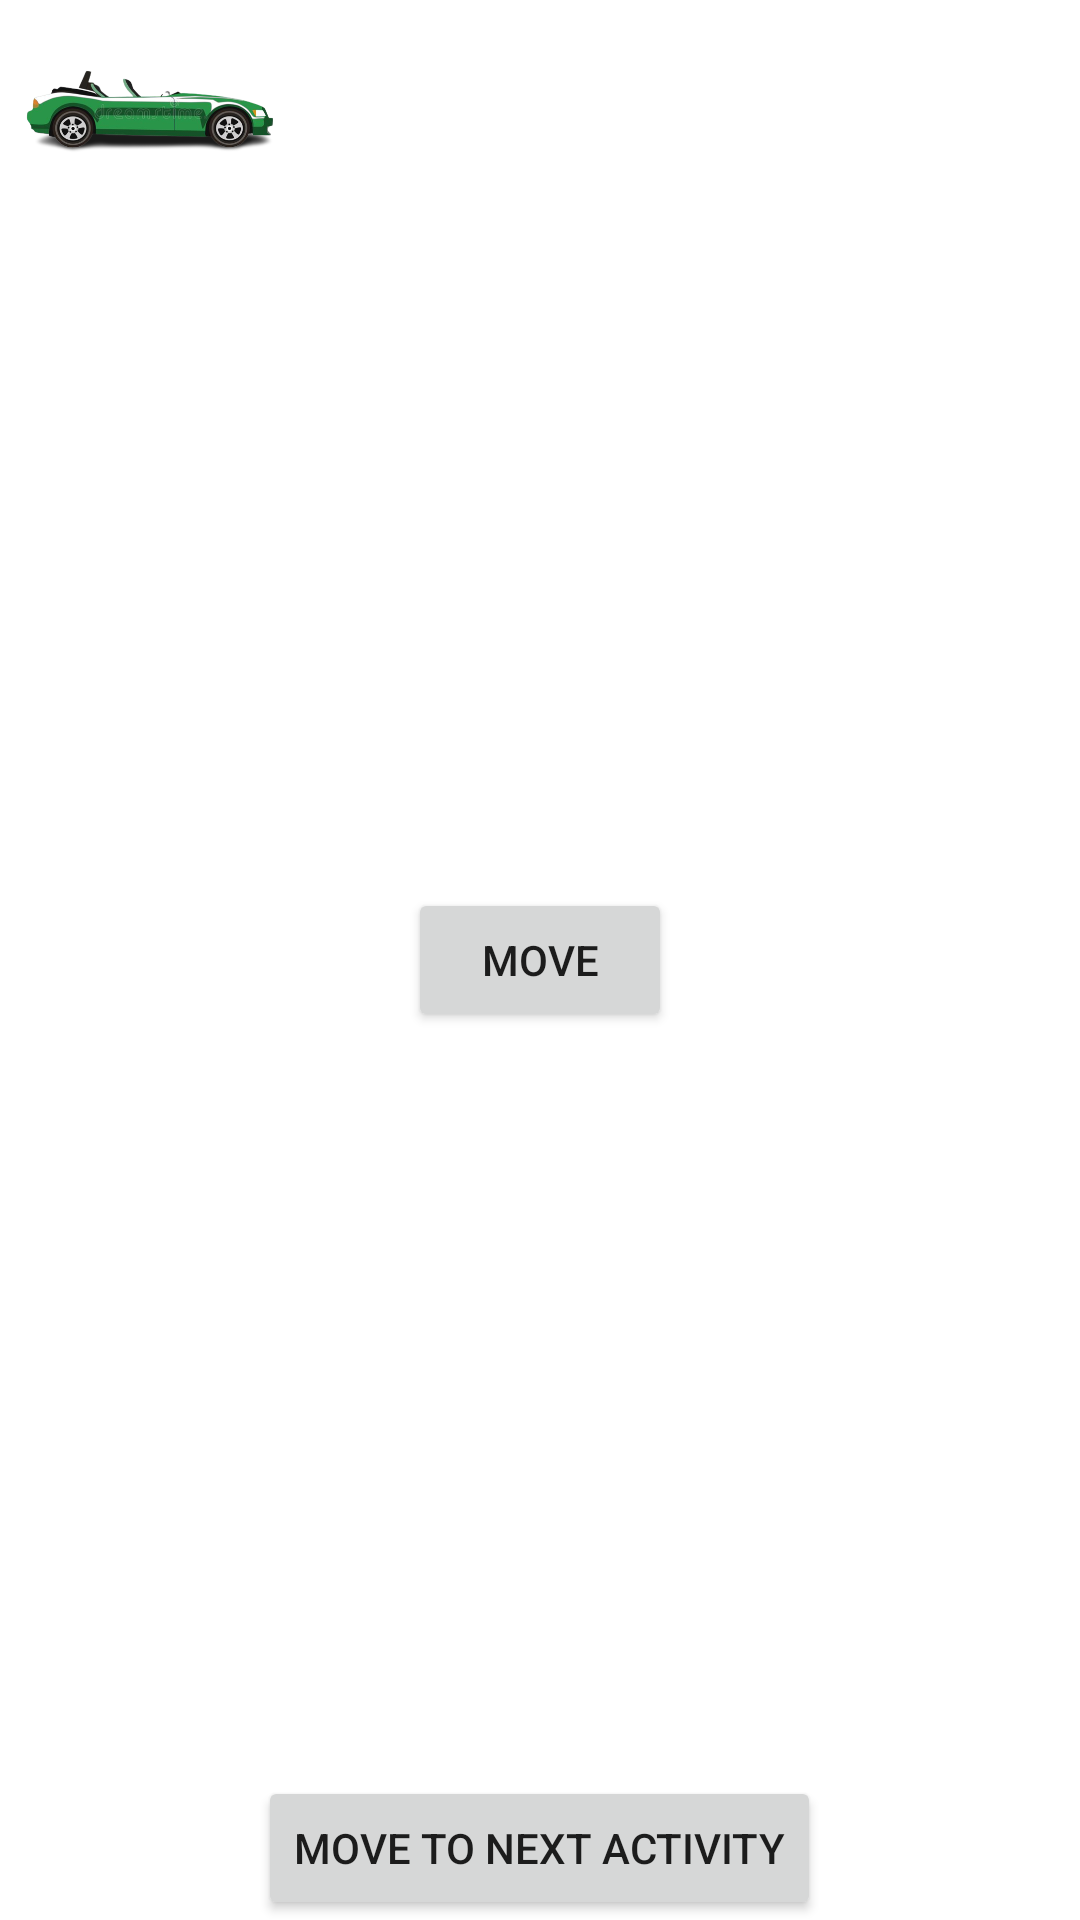

Icon bounding boxes for this 1080px x 1920px phone screenshot, format (x1, y1, x2, y2):
car: (27, 71, 273, 150)
